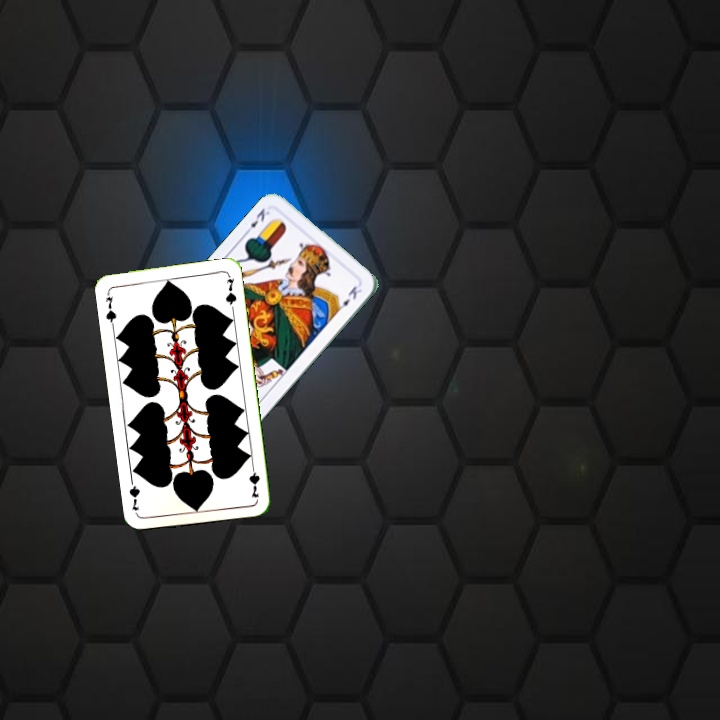EK: (243, 202, 274, 236)
G7: (245, 460, 262, 500), (102, 288, 119, 328)
